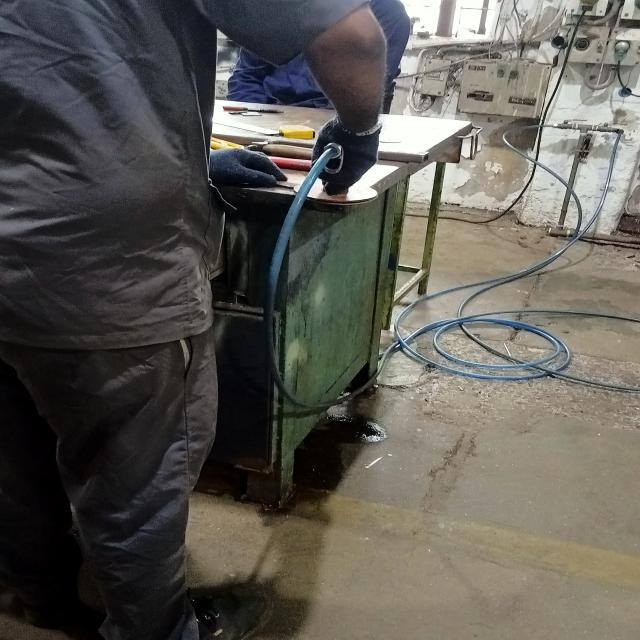Gloves-Detection: (306, 116, 374, 190), (208, 145, 286, 191)
